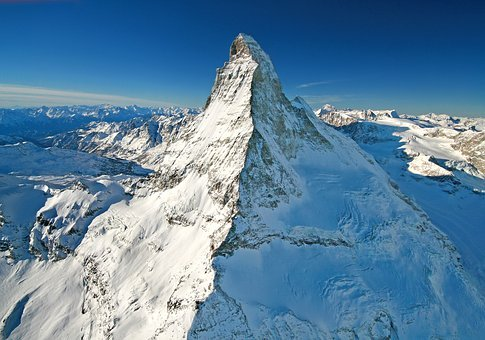mountain: (46, 47, 477, 340)
sky: (8, 7, 485, 104)
